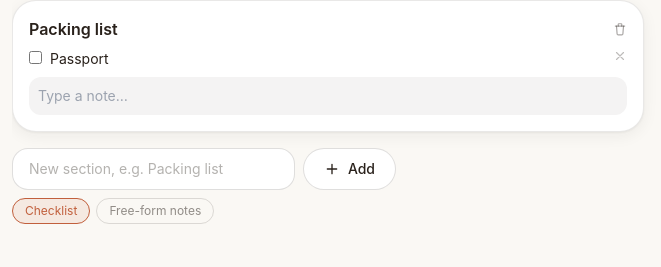
NotesPanel — adding a note › keeps a note that could not be saved on screen, and retries it
The image size is (661, 267).
Type "Sunscreen" into the field with placeholder "Type a note…" at (328, 96), box [29,77,627,115]
Then press Enter
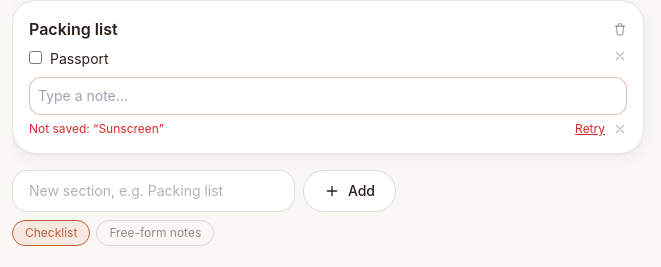
Now the message shows "Sunscreen", box [98,121,159,136]
Click the button "Retry" at (590, 129), box [575,121,605,137]
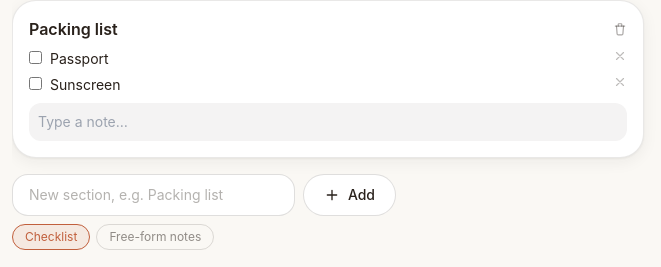
Now the text "Sunscreen" is shown, box [50,75,121,95]
Now the message "Not saved: “Sunscreen” Retry" is gone
